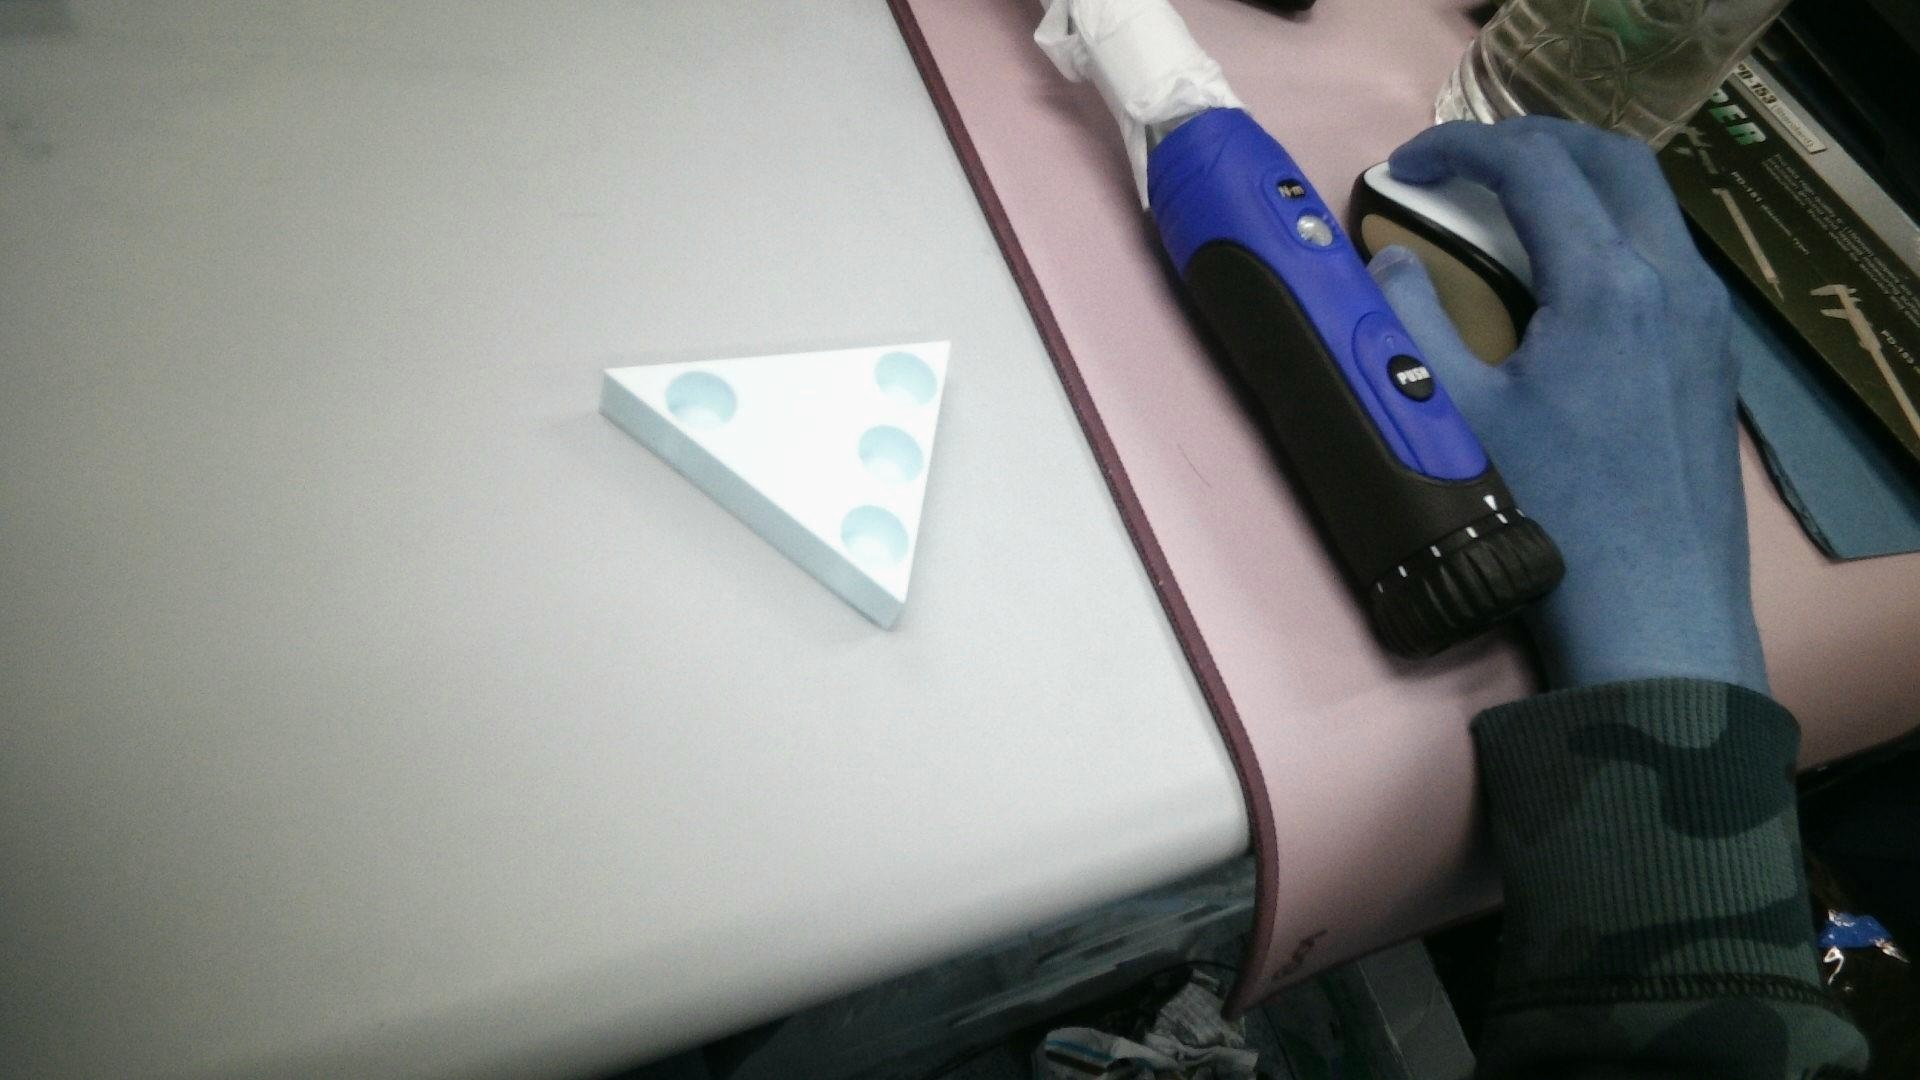hole: (836, 502, 913, 574), (857, 419, 924, 491), (665, 371, 735, 431), (878, 352, 934, 407)
obj: (587, 324, 953, 642)
